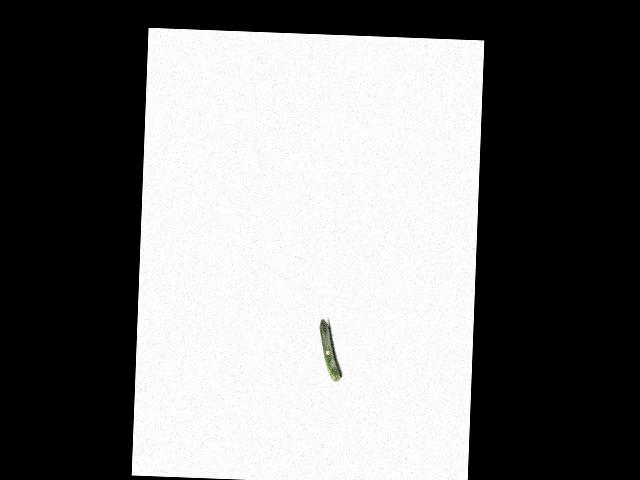cucumber: (317, 319, 343, 382)
